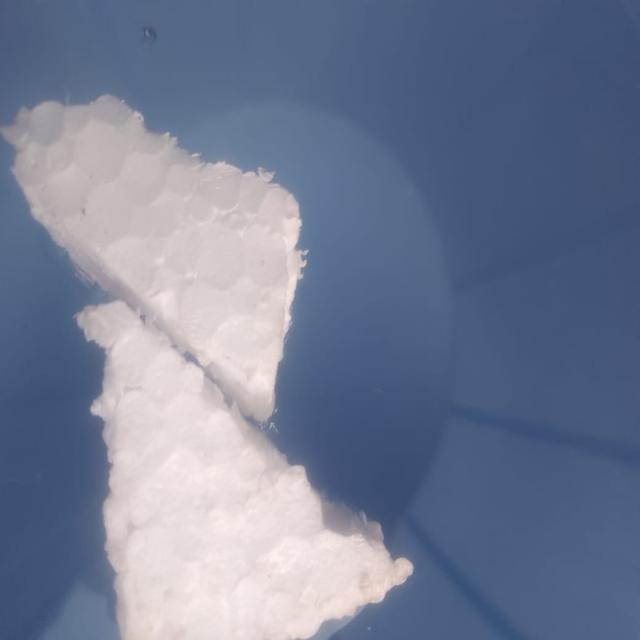litter: (0, 78, 422, 640), (48, 274, 420, 640), (1, 78, 321, 422)
